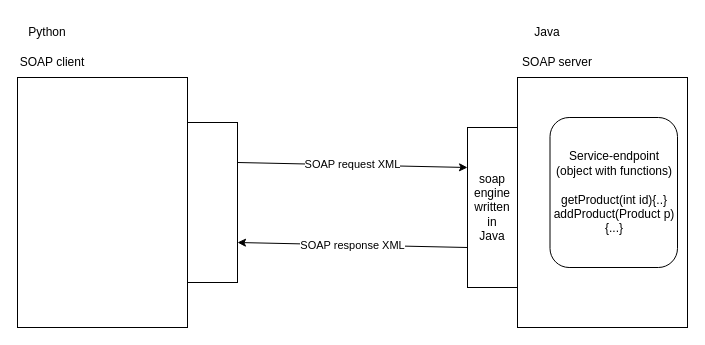
Image size: 705x345. Some labels were removed from this diagram. Here are the shapes that lost their labels. From the top down, the centre of each, then its label:
At point 102,202: "Python: p = service.getProduct(1)".
At point 212,202: "soap engine written in Python".
